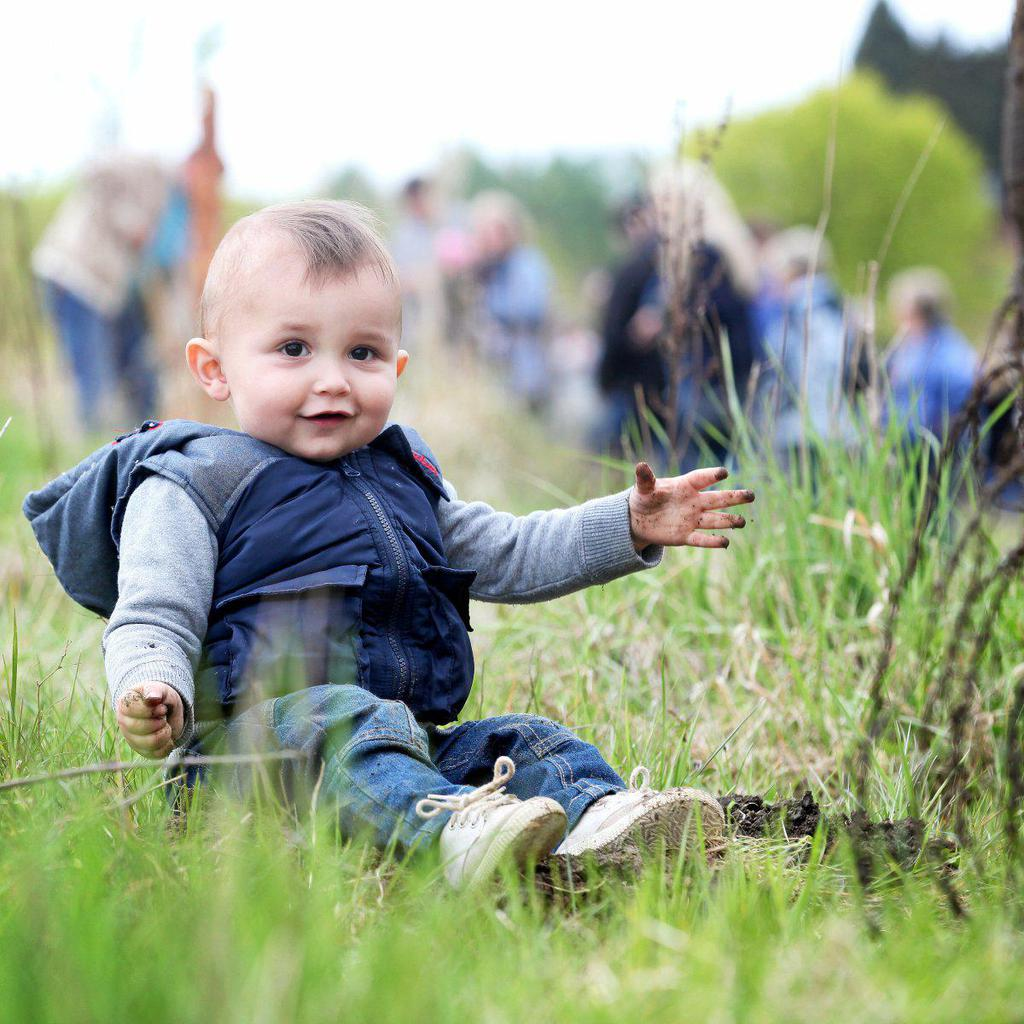child: (24, 186, 784, 909)
